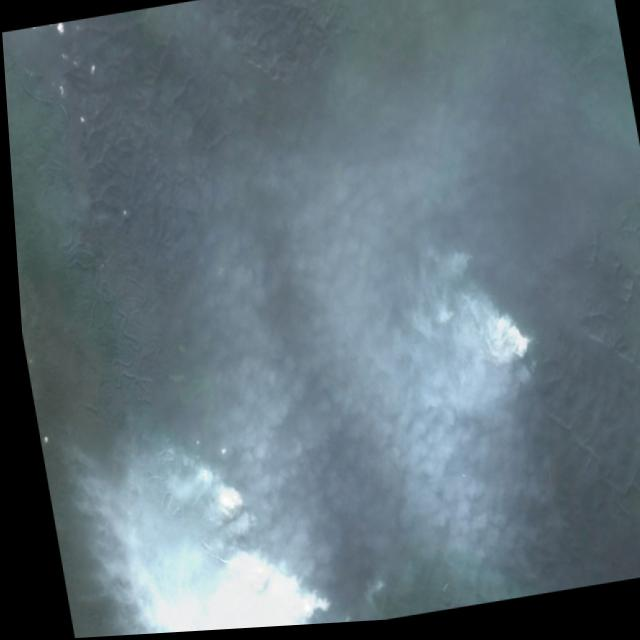fire: (157, 425, 331, 634), (499, 321, 540, 374)
